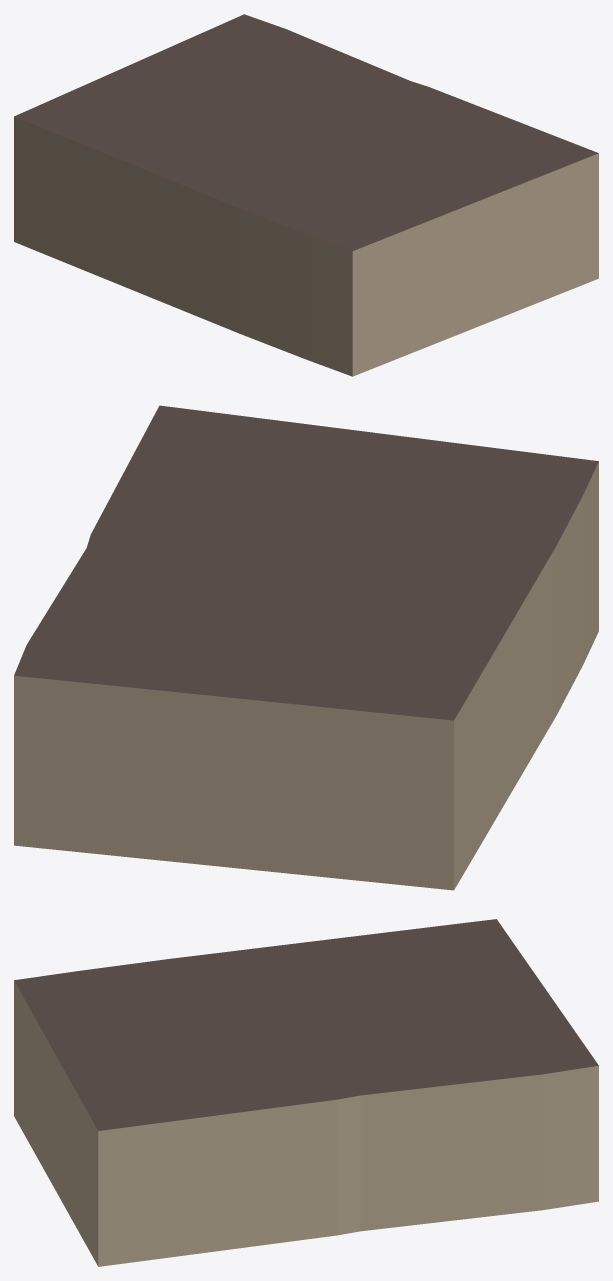
3 views of the same model, one above another, from view 1: azimuth 30°, elevation 25°; view 2: azimuth 150°, elevation 25°; view 3: azimuth 270°, elevation 25° (orthographic). The views are drawn at different scales.
Visible parts, largest first — view 1: HP-w1196661475; view 2: HP-w1196661475; view 3: HP-w1196661475.
Part boxes in pixels (box(x1,y1,x2,y2)): HP-w1196661475: box(14, 14, 598, 376); HP-w1196661475: box(14, 405, 598, 890); HP-w1196661475: box(14, 919, 598, 1266).
Size of the model in its own units: 30.13 by 9 by 35.12.
